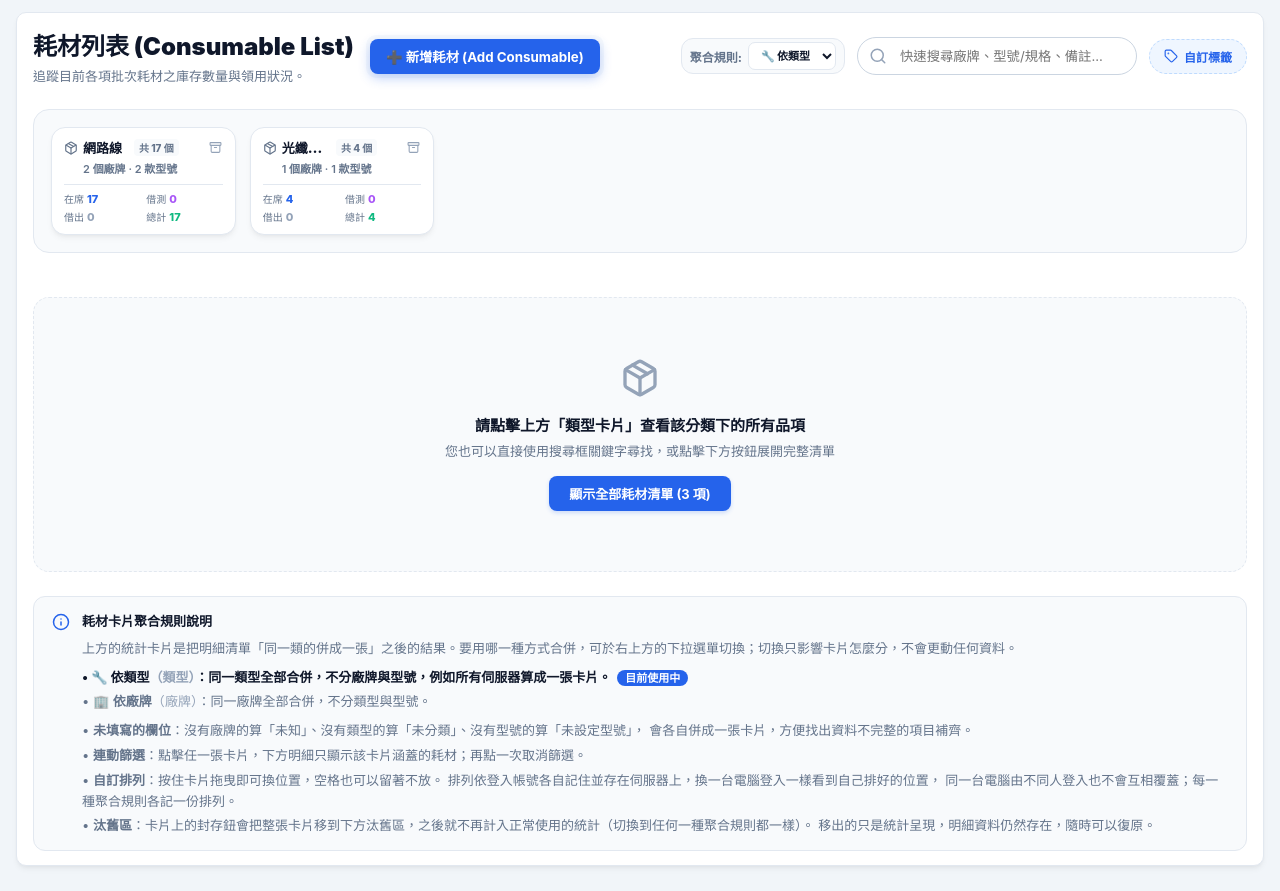
耗材卡片：依廠牌聚合 › 切換規則會清掉選取的卡片 —— 兩種規則的卡片值不同，沿用會篩不到東西
The width and height of the screenshot is (1280, 891).
expect the dropdown labelled "聚合規則:" is shown: met, box [748,42,836,70]
Click the text "網路線": (102, 148) [83,138,122,157]
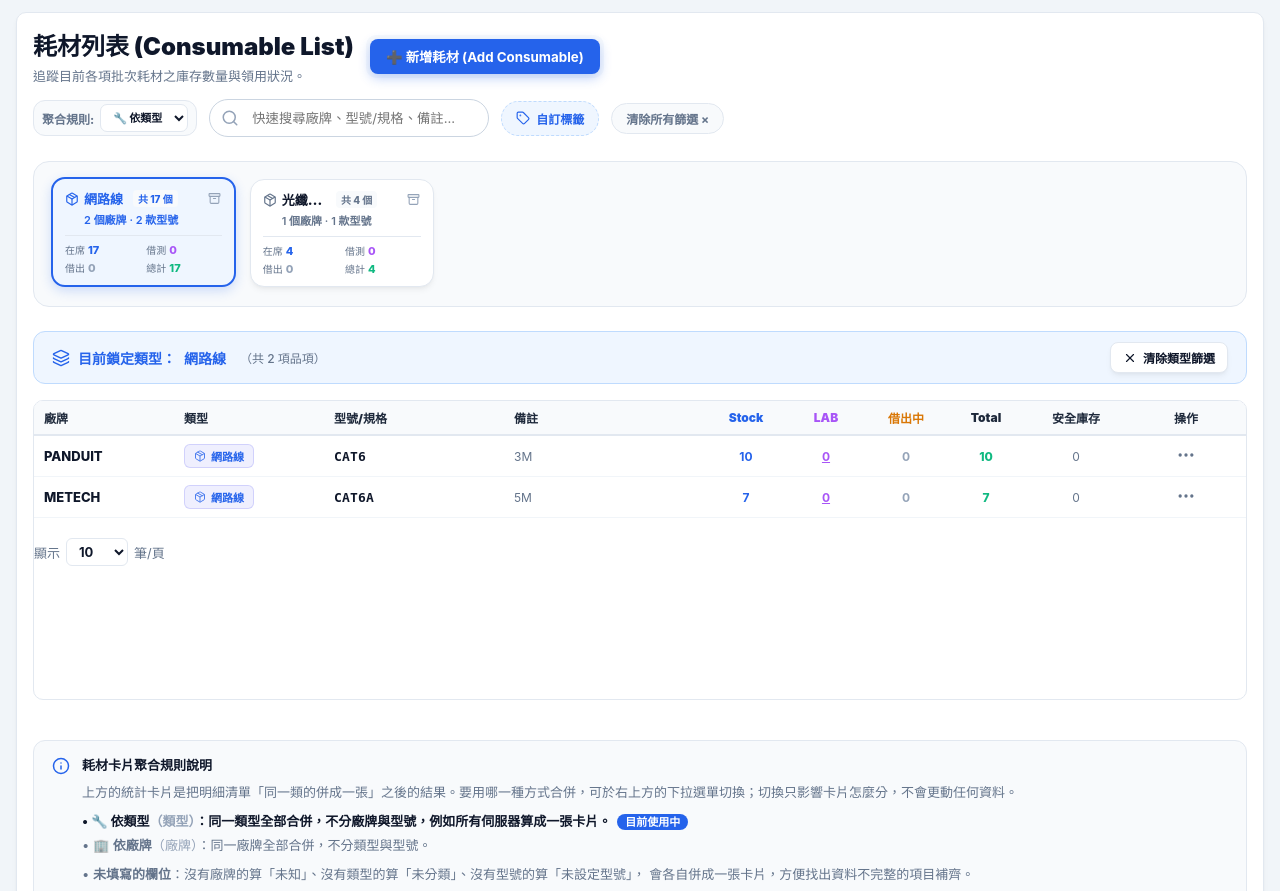
expect the text "目前鎖定類型： 網路線 （共 2 項品項）" is shown: met, box [52,348,326,368]
Select "🏢 依廠牌" in the dropdown labelled "聚合規則:": (144, 118) [100,104,188,132]
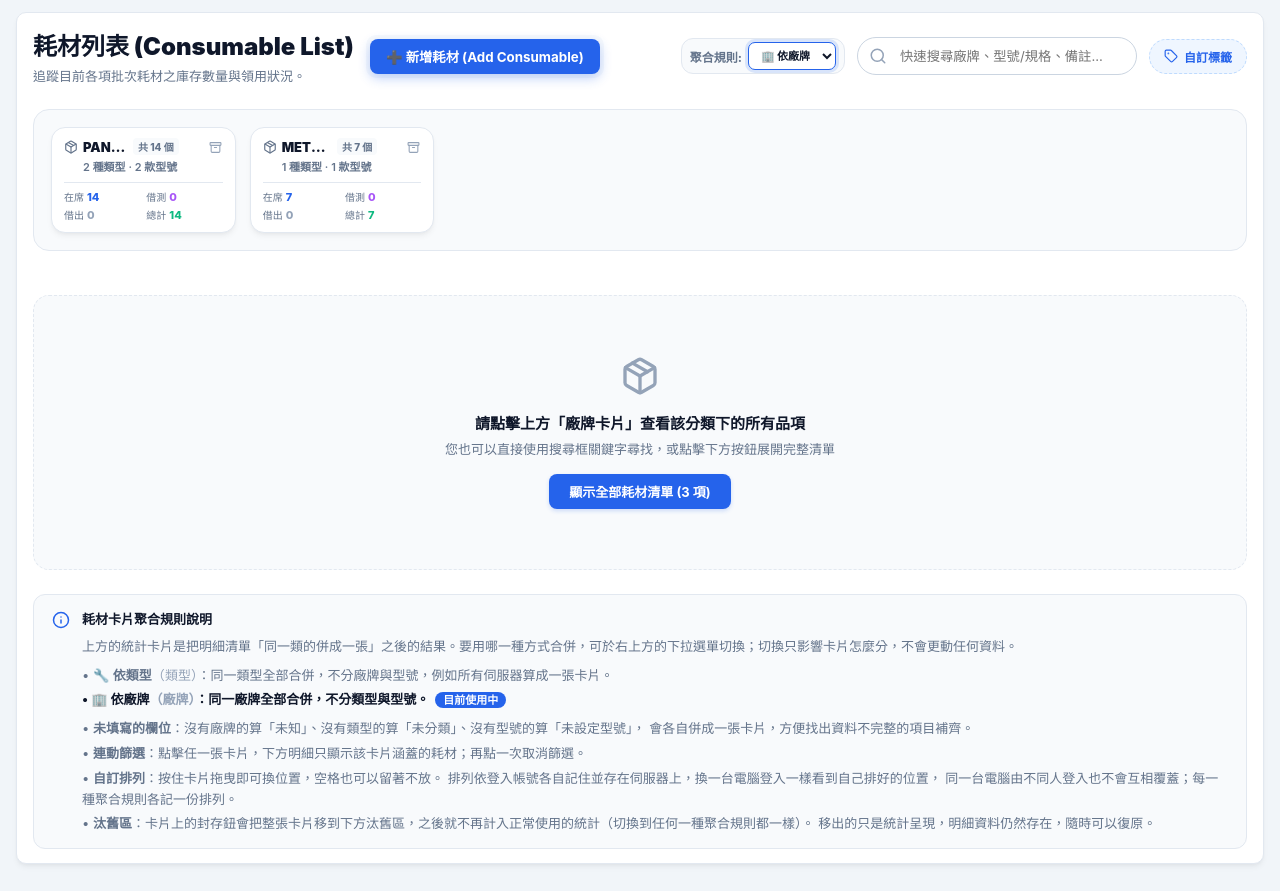
expect the text "目前鎖定" is gone: met
